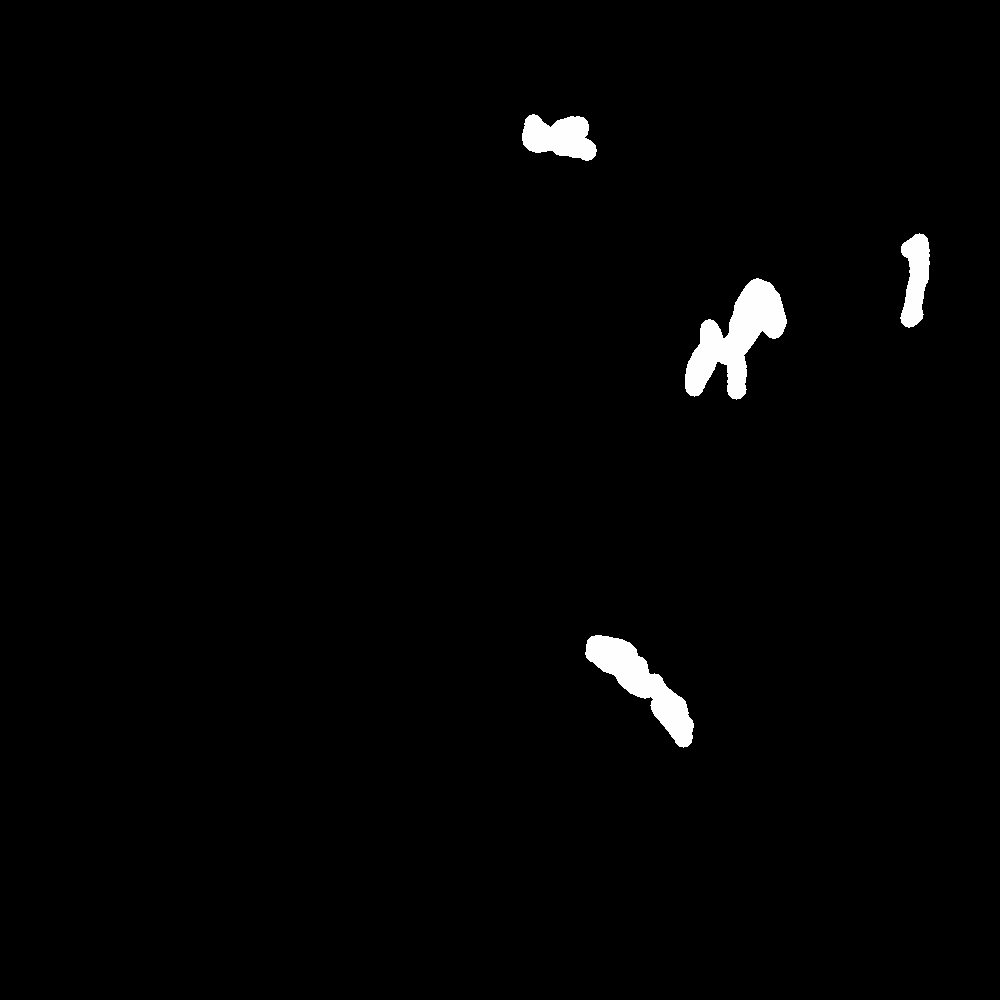illegal: (668, 268, 796, 411), (493, 92, 607, 220)
